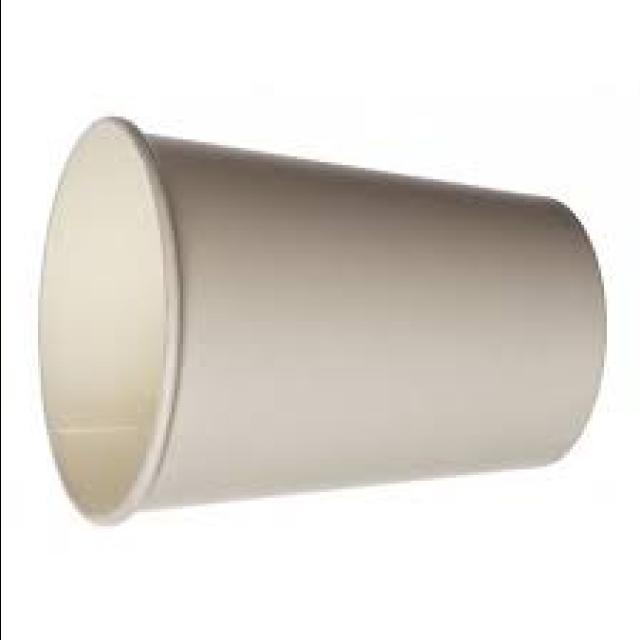styrofoam: (38, 118, 603, 524)
